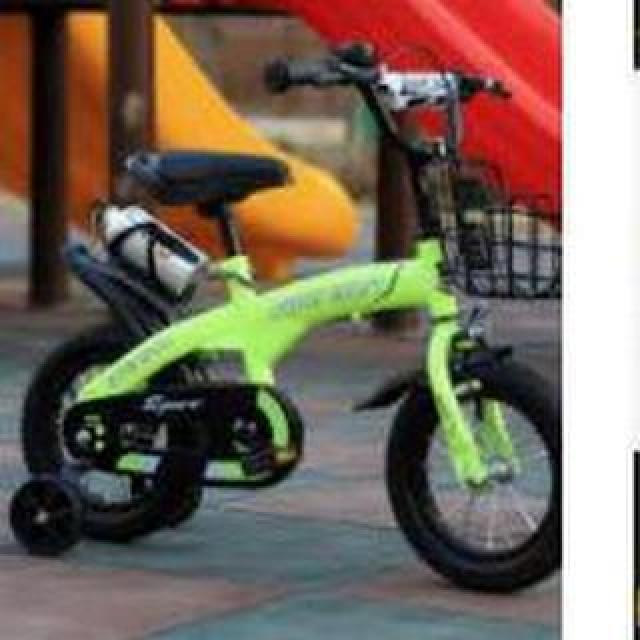Person: (8, 42, 566, 594)
